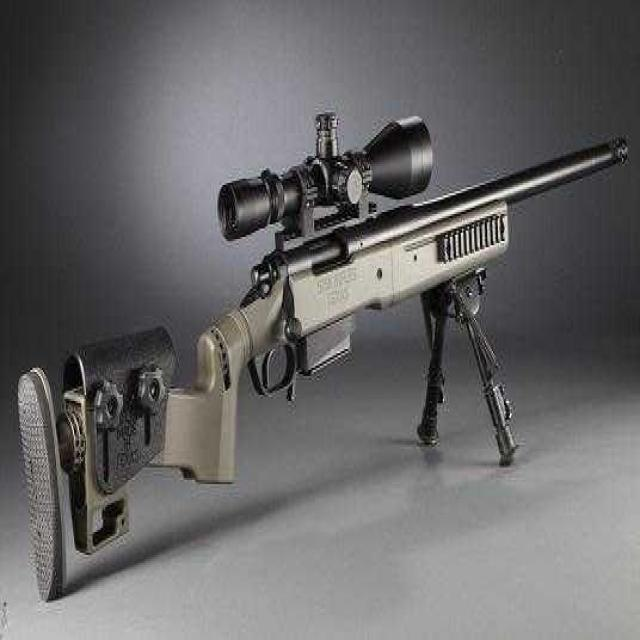heavyweapon: (23, 57, 621, 589)
